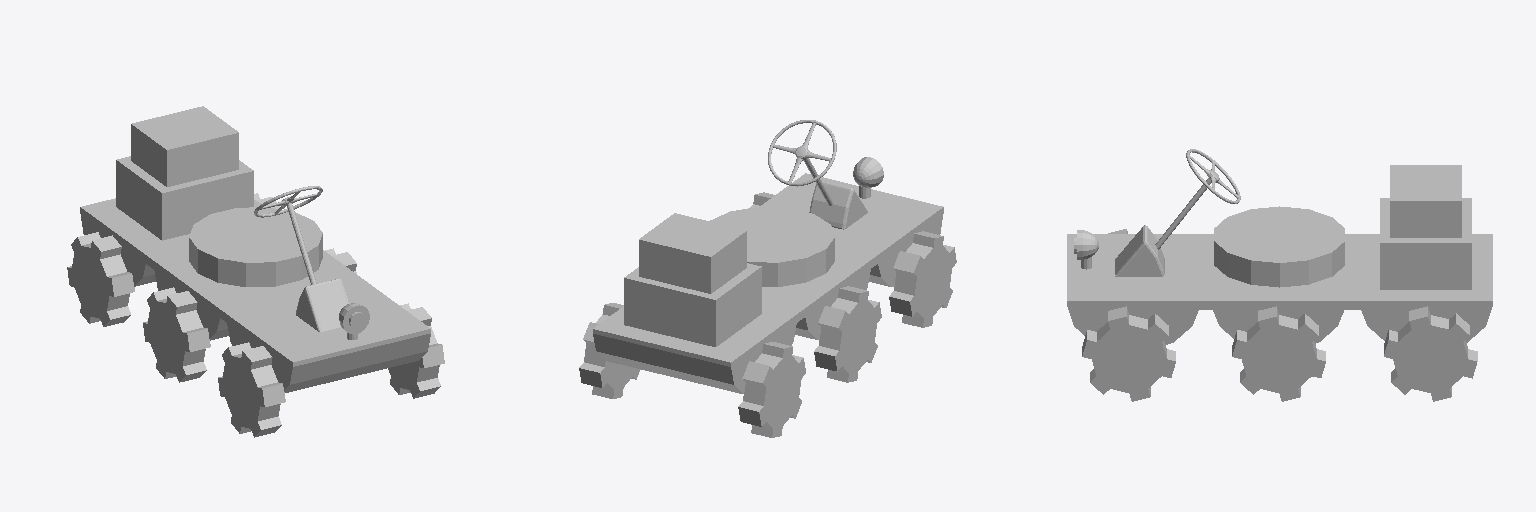
File: carrito.obj
The picture shows the model from 3 angles: view 1: azimuth 30°, elevation 25°; view 2: azimuth 150°, elevation 25°; view 3: azimuth 270°, elevation 25°; orthographic projection.
Visible parts, largest first — view 1: Vehicle Astronaut_Cartoon pCylinder10, Vehicle Astronaut_Cartoon wheel4, Vehicle Astronaut_Cartoon wheel3, Vehicle Astronaut_Cartoon wheel5, wheel Vehicle Astronaut_Cartoon, Vehicle Astronaut_Cartoon steering_wheel; view 2: Vehicle Astronaut_Cartoon pCylinder10, Vehicle Astronaut_Cartoon wheel4, Vehicle Astronaut_Cartoon wheel5, Vehicle Astronaut_Cartoon wheel3, Vehicle Astronaut_Cartoon wheel2, Vehicle Astronaut_Cartoon steering_wheel; view 3: Vehicle Astronaut_Cartoon pCylinder10, Vehicle Astronaut_Cartoon wheel2, Vehicle Astronaut_Cartoon wheel1, wheel Vehicle Astronaut_Cartoon, Vehicle Astronaut_Cartoon steering_wheel.
Part boxes in pixels (bbox=[...]): Vehicle Astronaut_Cartoon pCylinder10: bbox=[80, 106, 430, 392]; Vehicle Astronaut_Cartoon wheel4: bbox=[143, 287, 210, 382]; Vehicle Astronaut_Cartoon wheel3: bbox=[218, 342, 285, 437]; Vehicle Astronaut_Cartoon wheel5: bbox=[67, 232, 134, 326]; wheel Vehicle Astronaut_Cartoon: bbox=[388, 303, 444, 398]; Vehicle Astronaut_Cartoon steering_wheel: bbox=[254, 186, 322, 217]; Vehicle Astronaut_Cartoon pCylinder10: bbox=[593, 157, 943, 393]; Vehicle Astronaut_Cartoon wheel4: bbox=[814, 286, 881, 382]; Vehicle Astronaut_Cartoon wheel5: bbox=[738, 342, 805, 437]; Vehicle Astronaut_Cartoon wheel3: bbox=[889, 231, 956, 327]; Vehicle Astronaut_Cartoon wheel2: bbox=[579, 303, 640, 398]; Vehicle Astronaut_Cartoon steering_wheel: bbox=[768, 120, 836, 186]; Vehicle Astronaut_Cartoon pCylinder10: bbox=[1067, 165, 1492, 344]; Vehicle Astronaut_Cartoon wheel2: bbox=[1384, 306, 1477, 401]; Vehicle Astronaut_Cartoon wheel1: bbox=[1232, 306, 1325, 401]; wheel Vehicle Astronaut_Cartoon: bbox=[1082, 306, 1175, 401]; Vehicle Astronaut_Cartoon steering_wheel: bbox=[1186, 149, 1240, 203].
Bounding box in the file's own units: 12.7 × 13.73 × 25.97.